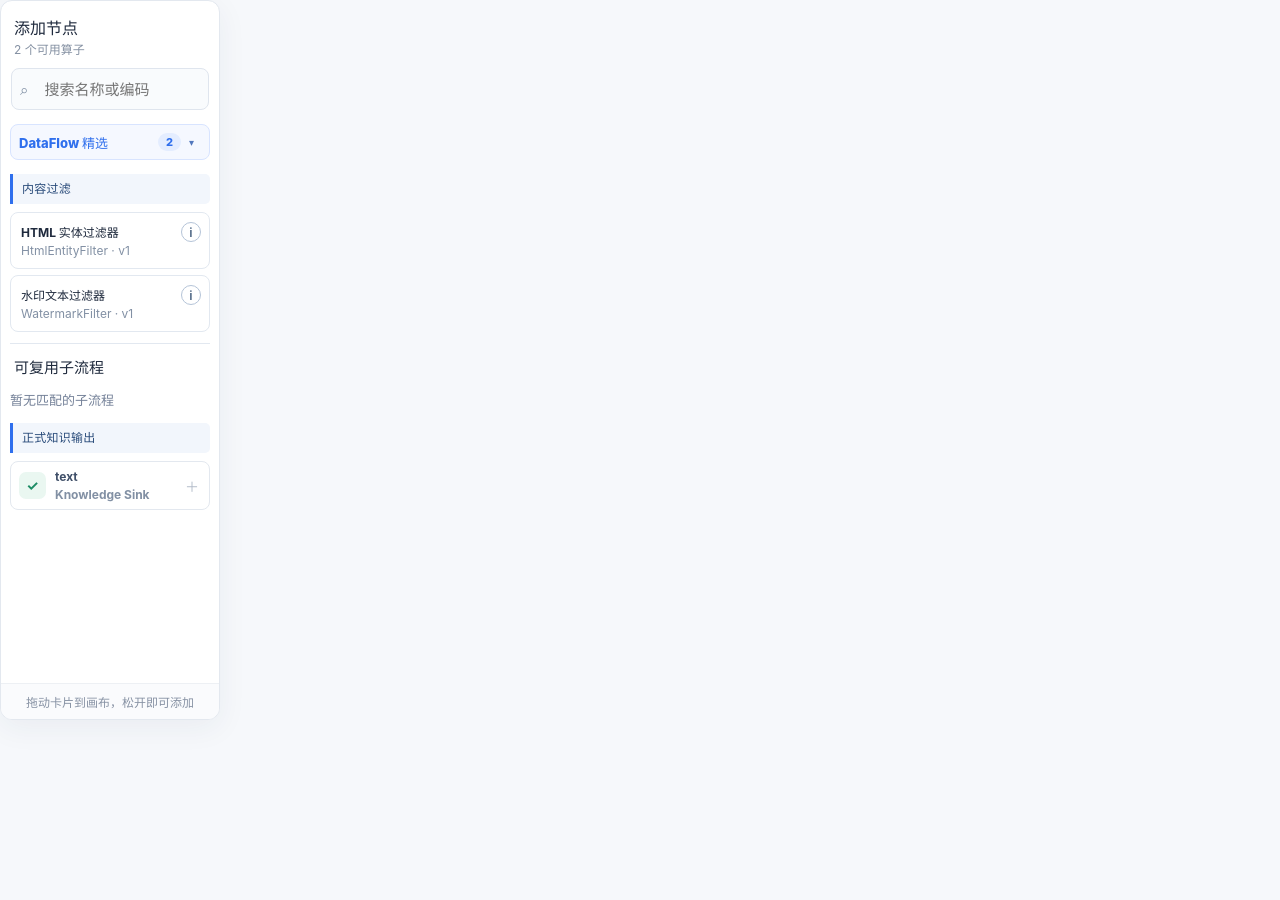
Test case: operator help has no graph mutations › replaces unpinned details when keyboard focus moves to another card
Focus the 1st button with class "operator-info" at [191, 232], box [181,222,201,242]
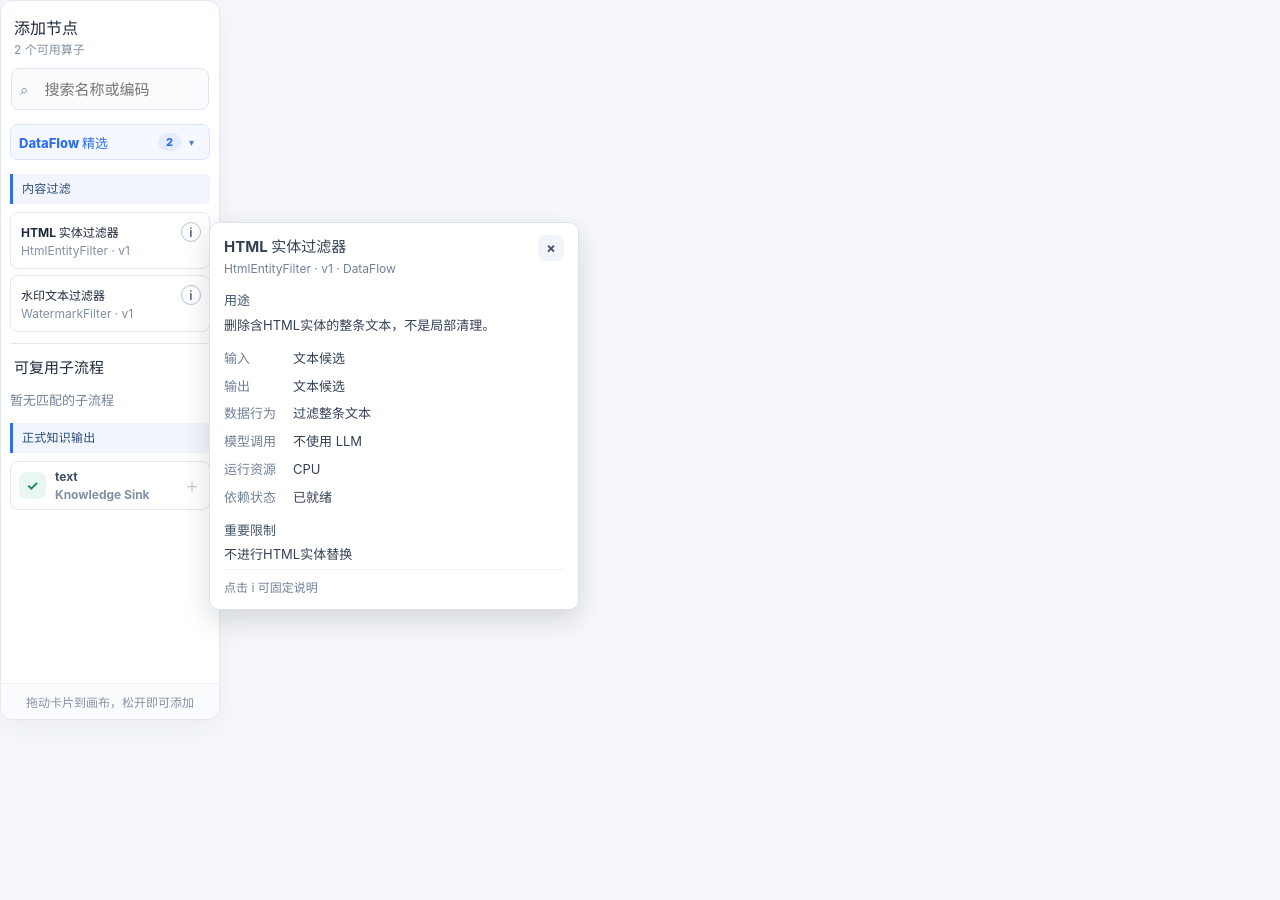
Expected: the dialog is shown, [209,222,579,610]
Focus the button with class "entry-body" showing "水印文本过滤器 WatermarkFilter · v1" at [77, 304], box [21,288,133,321]
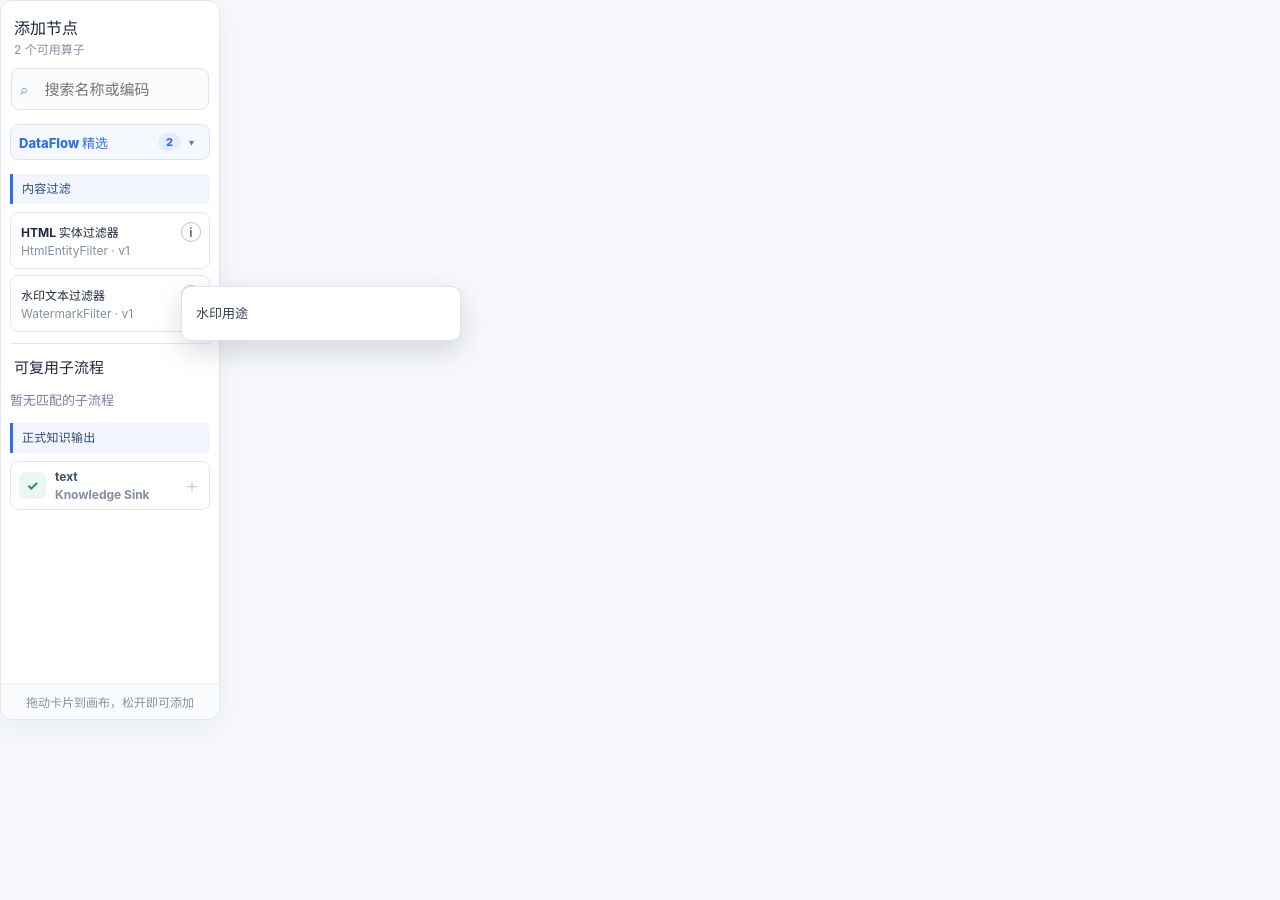
Expected: the tooltip "水印用途" is shown, [181,286,461,341]
